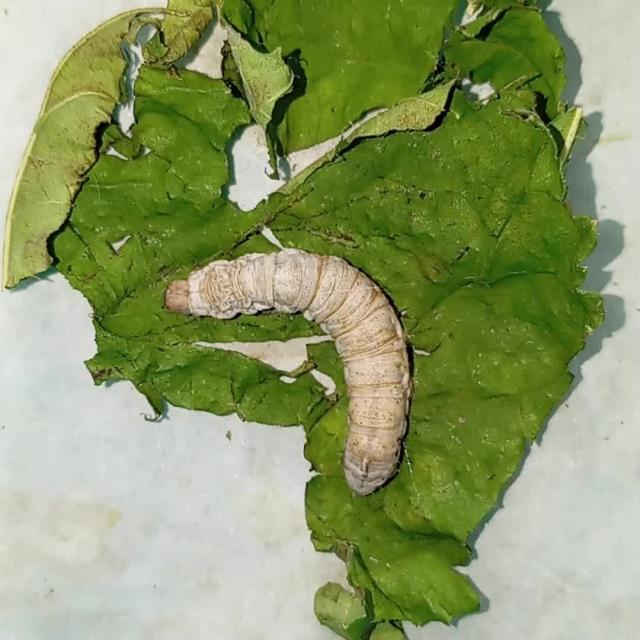Grasserie: (158, 235, 417, 500)
